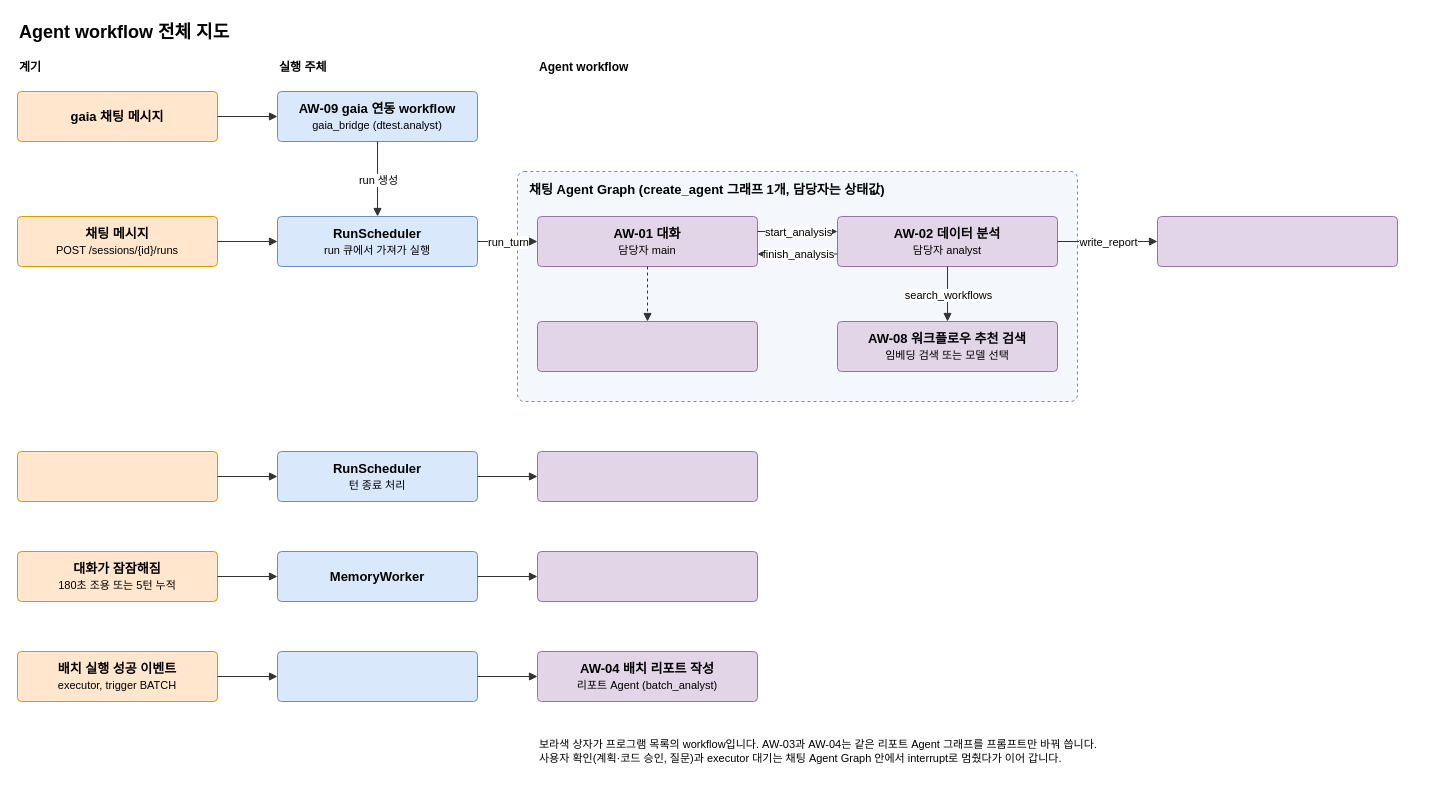
Some shapes in this 1435 by 788 pixel diagram are drawn without their labels. Here are the shapes that lost their labels. From the top down, the centre of each, then its label:
At [1277,241]: "AW-03 분석 리포트 작성 리포트 Agent (reporter)".
At [647,346]: "AW-07 대화 요약 middleware, 3만 토큰 넘으면".
At [117,476]: "턴의 첫 답변 완료".
At [647,476]: "AW-06 세션 제목 생성 LLM 1회 호출".
At [647,576]: "AW-05 프로젝트 메모리 추출 LLM 1회 호출 + 코드 검증".
At [377,676]: "BatchReportWorker".
